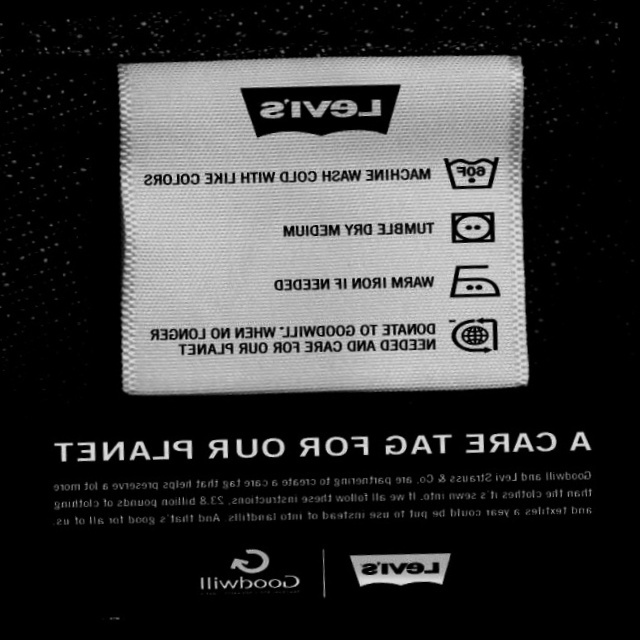30C: (438, 145, 504, 198)
iron_medium: (442, 256, 505, 306)
tumble_dry_medium: (444, 206, 503, 251)
